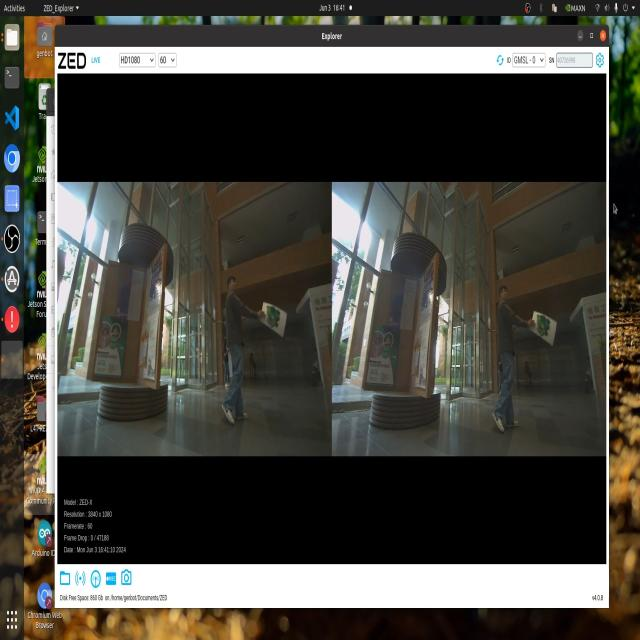green: (263, 300, 289, 336), (530, 307, 554, 339)
